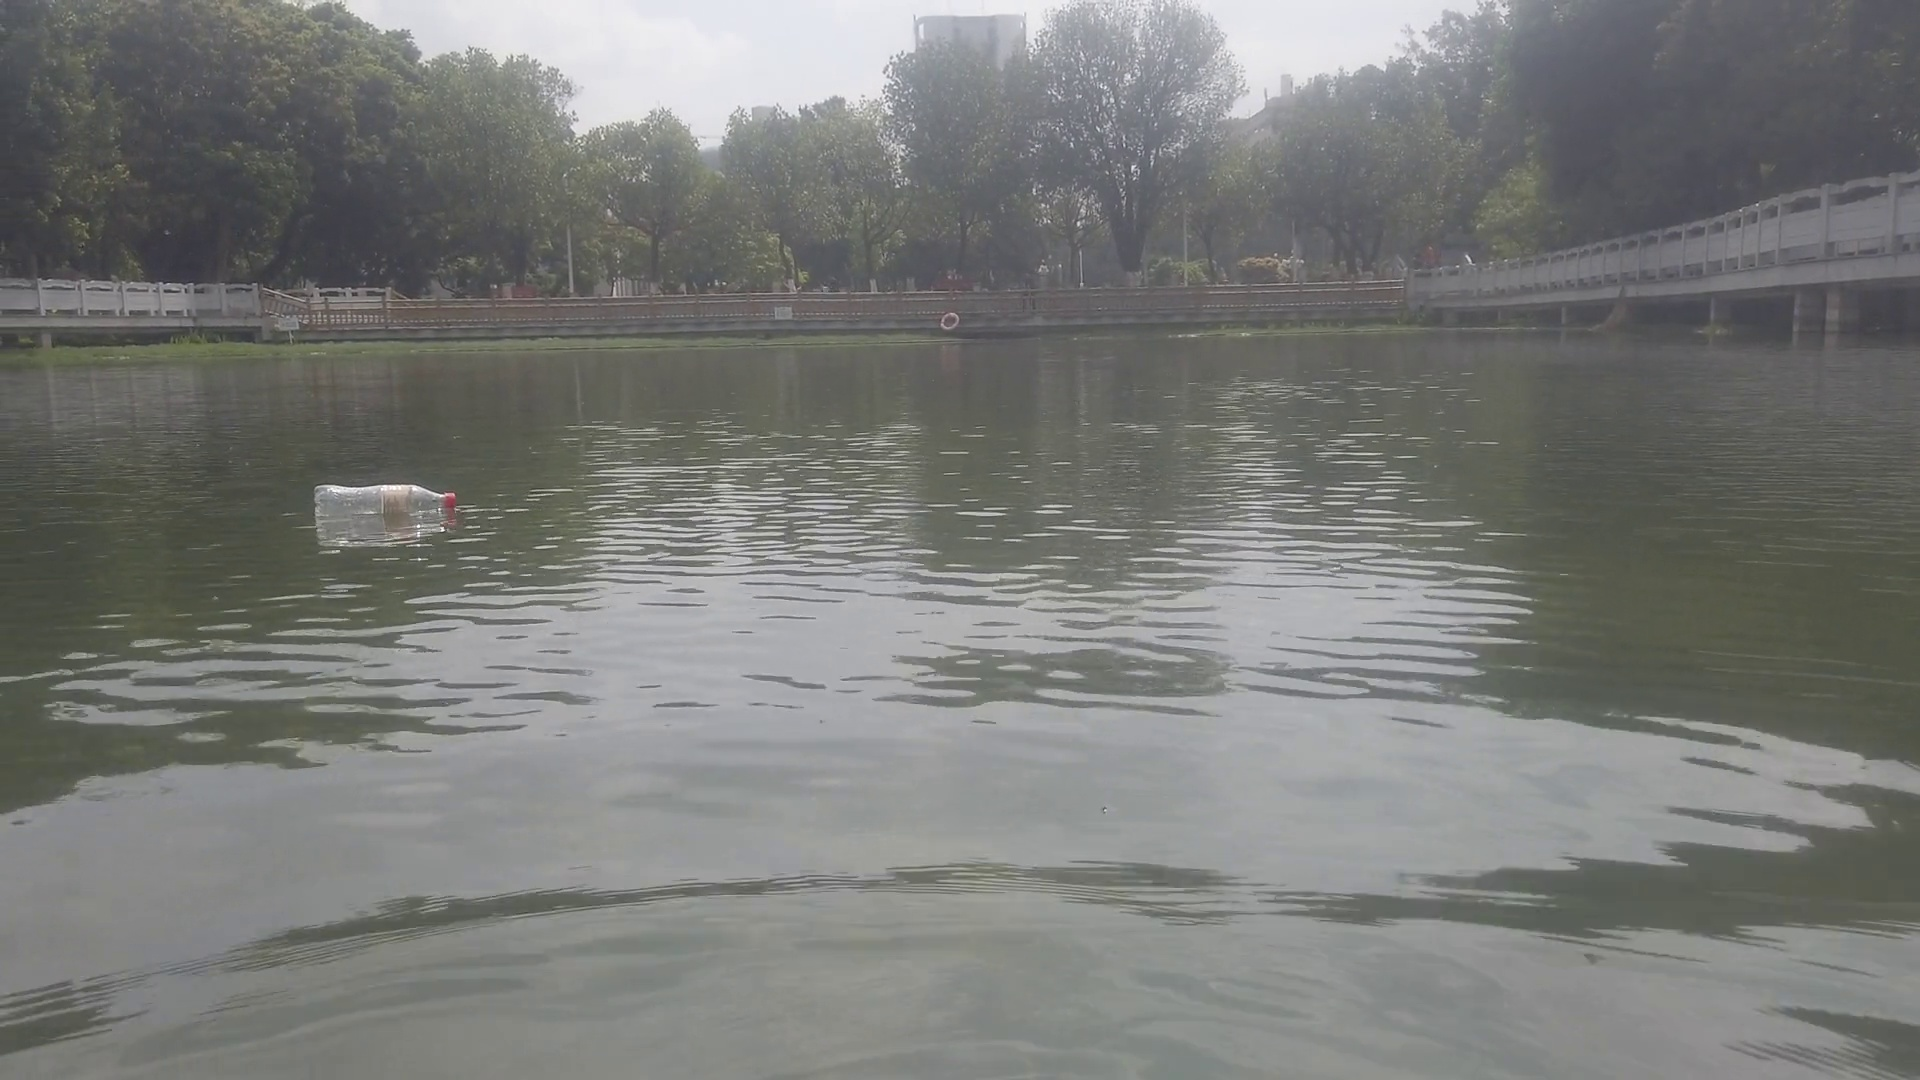bottle: (310, 476, 456, 524)
